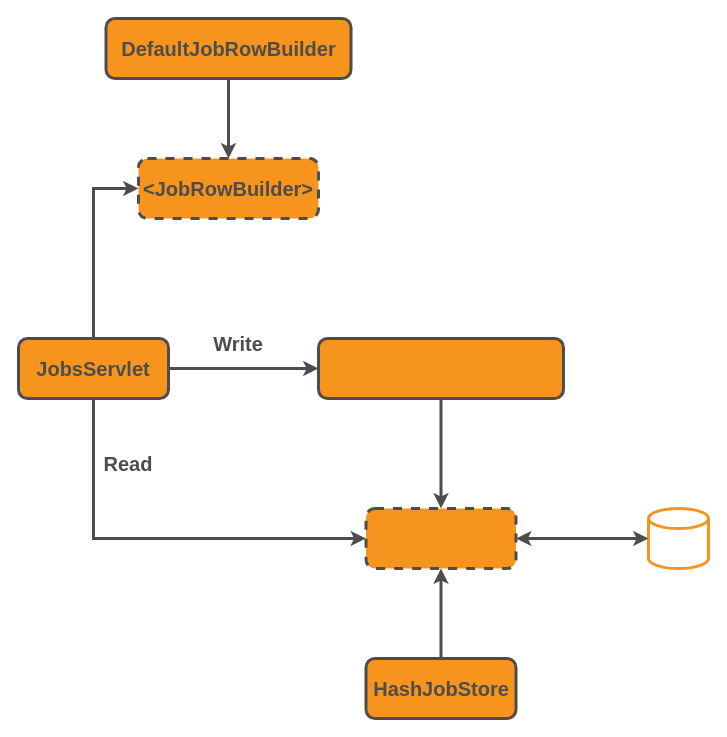
This 727x737 diagram has some shape labels left out. Each missing label, with the box of its shape:
<ApiJobStore>: (364, 506, 517, 570)
AsynchronousWorkflows: (316, 336, 564, 400)
